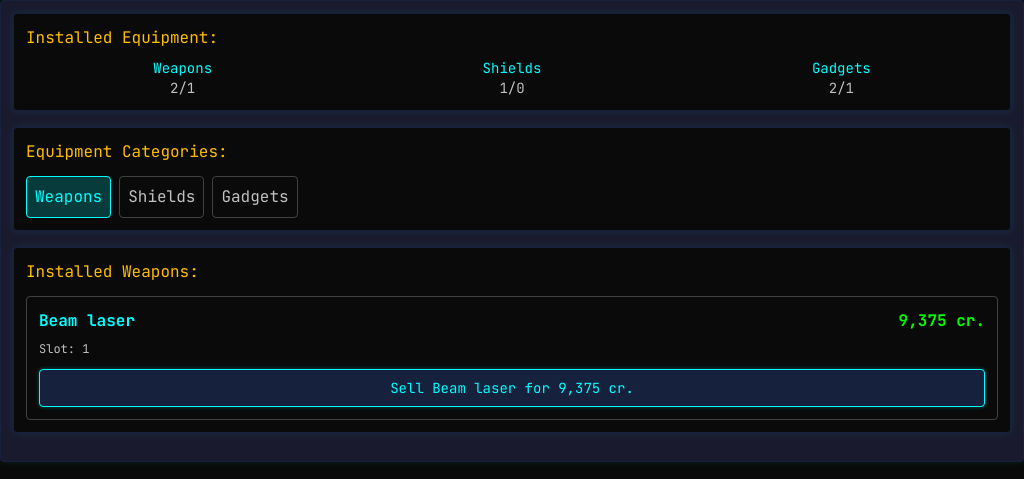
Scenario: SellEquipmentScreen › should show installed gadgets with sell prices
# Switch to gadgets category
Click the button "Gadgets" at [255, 197], box [212,176,298,218]
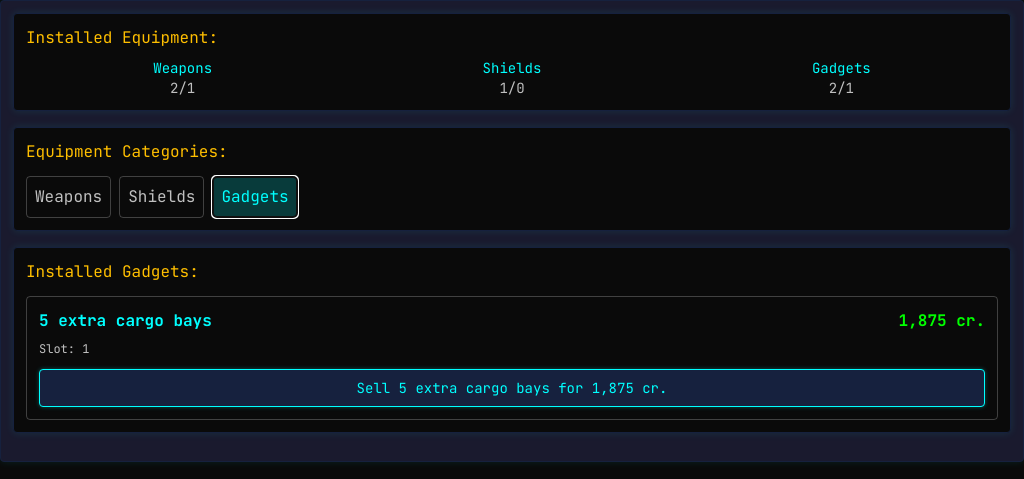
Check: the button "Sell 5 extra cargo bays for 1,875 cr." is shown, box [39,369,985,407]
Check: the text "Installed Gadgets:" is shown, box [26,261,199,282]
